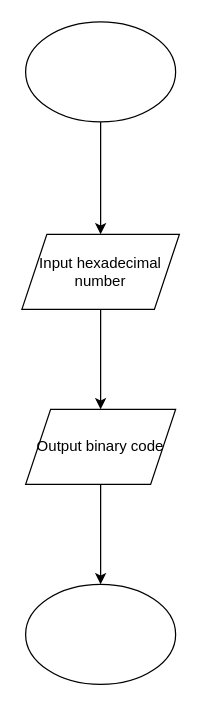
Image size: 201x706. Some labels were removed from this diagram. Here are the shapes that lost their labels. From the top down, the centre of each, then its label:
(x=100, y=71): Start
(x=100, y=633): End
